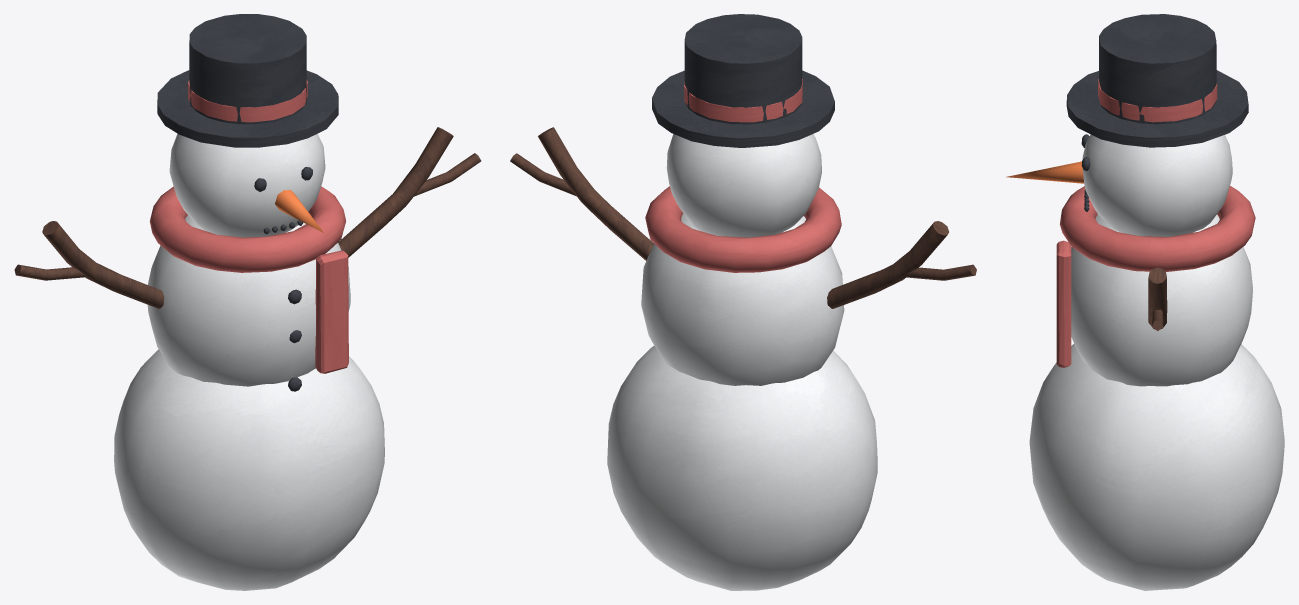
The model's file is snowman.glb.
3 renders of one model, left to right at view 1: azimuth 30°, elevation 25°; view 2: azimuth 150°, elevation 25°; view 3: azimuth 270°, elevation 25°, orthographic.
Visible parts, largest first — view 1: snowman; view 2: snowman; view 3: snowman.
Boxes of the visible parts, <box> form: snowman: <box>14,14,481,590</box>; snowman: <box>510,14,976,590</box>; snowman: <box>1006,14,1284,590</box>.
Size of the model in its own units: 2 by 2.22 by 1.04.
Materials: 1 (1 with a texture image).
